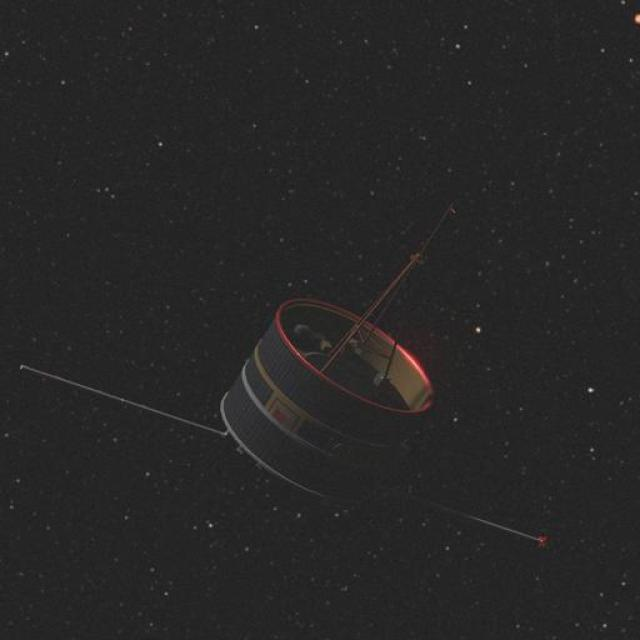double_start: (200, 284, 455, 502)
